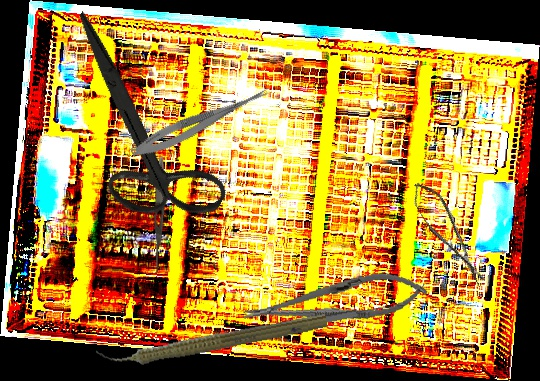Dressing Forceps: (152, 156, 167, 274)
Handpiece: (95, 304, 329, 376)
Iris Scissors: (7, 9, 271, 249)
Micro Scissor: (127, 77, 276, 165), (406, 175, 490, 292)
Needle Holder: (238, 265, 431, 337)
Surgical Spoon: (243, 299, 405, 341)
